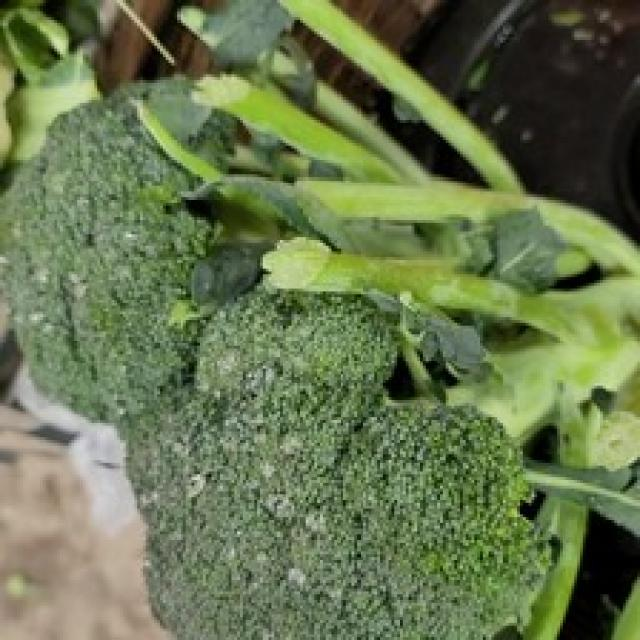Broccoli: (12, 90, 546, 640), (12, 90, 545, 640)
